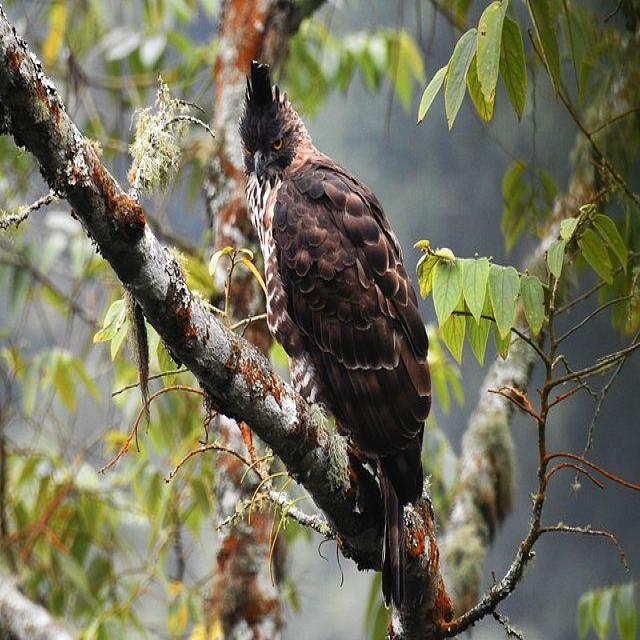Elang Jawa: (216, 57, 453, 618)
